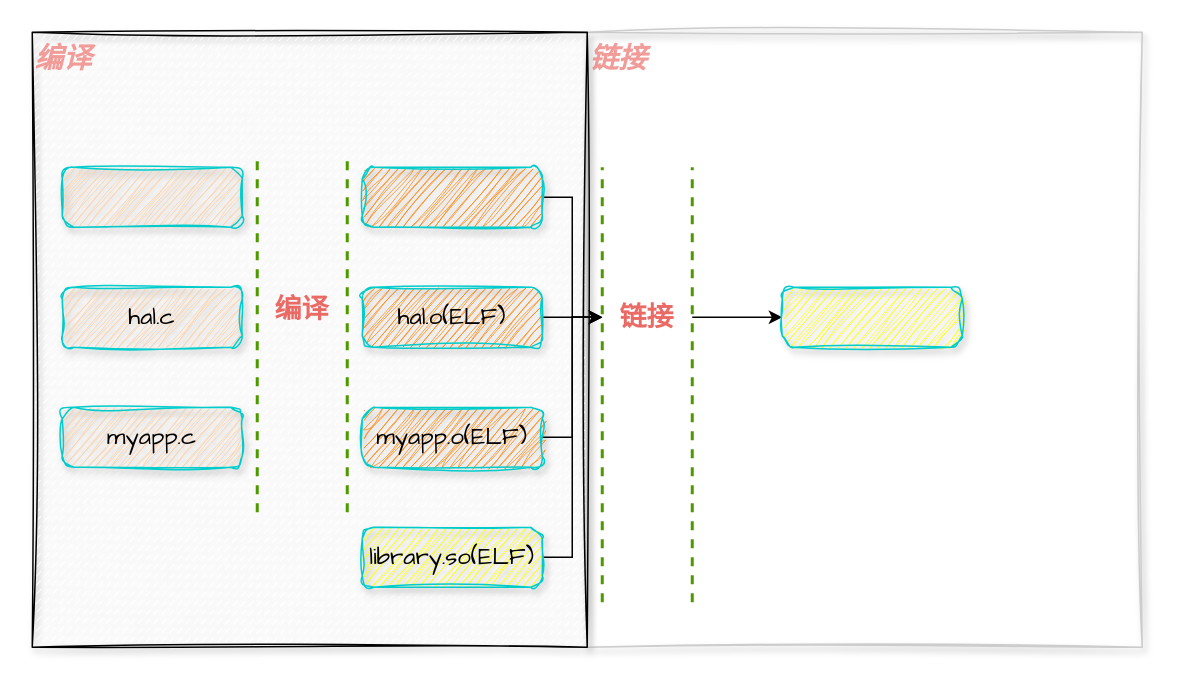
Image size: 1178x684. Some labels were removed from this diagram. The centre of each missing label's shape, as x and y in pixels:
"driver.c" belongs at (x=153, y=199).
"driver.o(ELF)" belongs at (x=453, y=199).
"可执行文件(ELF)" belongs at (x=873, y=319).
